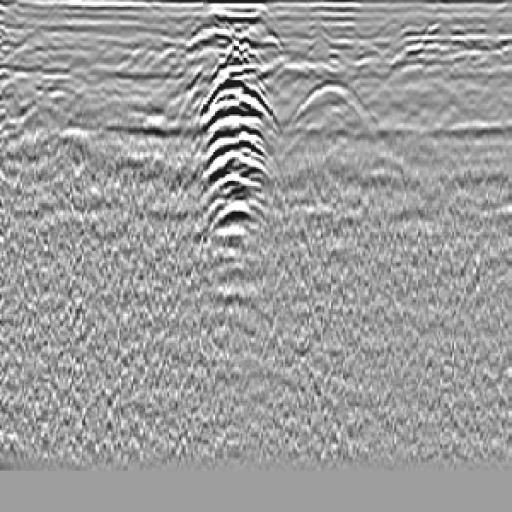metalic: (196, 14, 276, 263)
nonmetalic: (283, 76, 376, 154)
